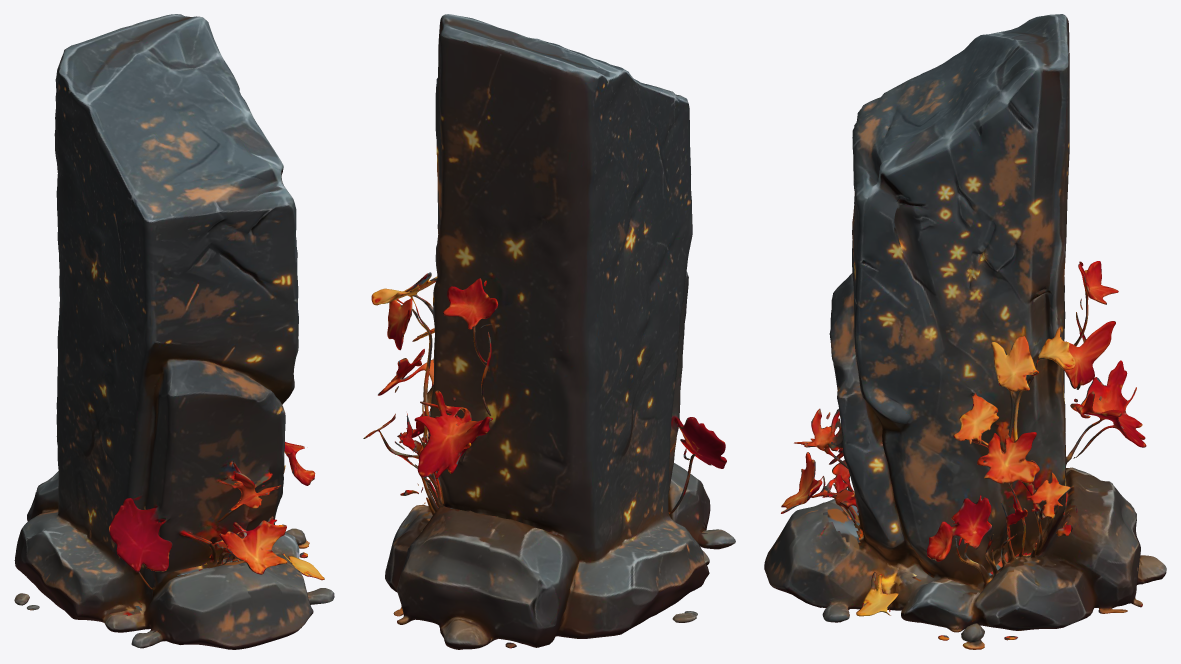
File: glowing+rock+obelisk+3d+model (1).fbx
3 renders of one model, left to right at view 1: azimuth 30°, elevation 25°; view 2: azimuth 150°, elevation 25°; view 3: azimuth 270°, elevation 25°, orthographic. The views are drawn at different scales.
Parts seen in each view (by area): view 1: tripo_node_b7ad2ab7; view 2: tripo_node_b7ad2ab7; view 3: tripo_node_b7ad2ab7.
Part boxes in pixels (<box>): tripo_node_b7ad2ab7: <box>14,14,334,649</box>; tripo_node_b7ad2ab7: <box>363,14,735,649</box>; tripo_node_b7ad2ab7: <box>764,14,1166,649</box>.
Bounding box in the file's own units: 0.5655 × 0.9987 × 0.6658.
Materials: 1 (1 with a texture image).
